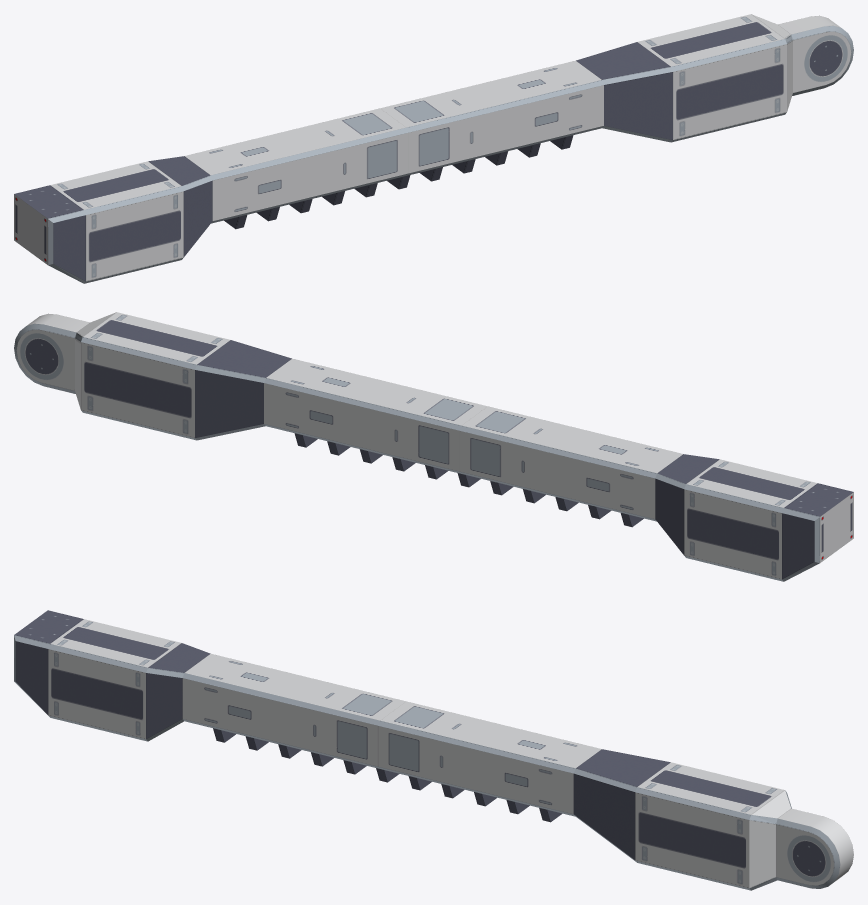
The model's file is Canon_Arm_01.FBX.
The picture shows the model from 3 angles, top to bottom: view 1: azimuth 30°, elevation 25°; view 2: azimuth 150°, elevation 25°; view 3: azimuth 330°, elevation 25°; orthographic projection.
Parts seen in each view (by area): view 1: Canon_Arm_01; view 2: Canon_Arm_01; view 3: Canon_Arm_01.
Boxes of the visible parts, box(x1,y1,x2,y2) form: Canon_Arm_01: box(14, 14, 853, 283); Canon_Arm_01: box(14, 312, 853, 581); Canon_Arm_01: box(14, 610, 853, 890).
Bounding box in the file's own units: 25.03 × 2.22 × 2.
